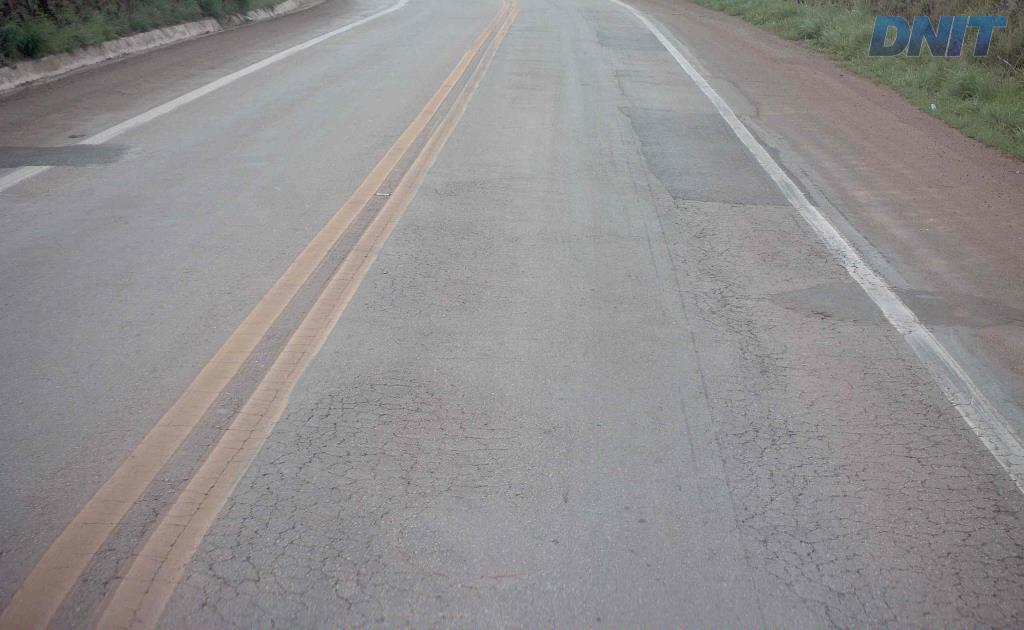crack: (895, 434, 956, 475), (911, 393, 956, 442)
